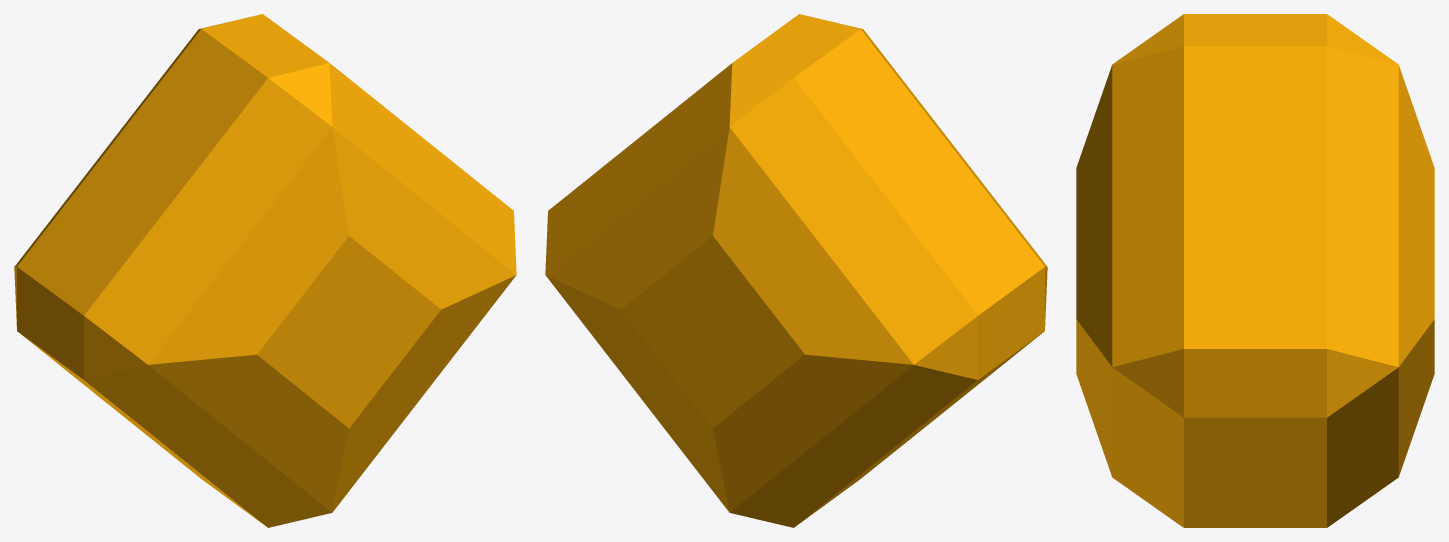
Rendered from 2025-10-04_lens-03.gltf.
3 renders of one model, left to right at view 1: azimuth 30°, elevation 25°; view 2: azimuth 150°, elevation 25°; view 3: azimuth 270°, elevation 25°, orthographic. The views are drawn at different scales.
Visible parts, largest first — view 1: beveled_cuboid; view 2: beveled_cuboid; view 3: beveled_cuboid.
Part boxes in pixels (bbox=[...]): beveled_cuboid: bbox=[14, 14, 516, 527]; beveled_cuboid: bbox=[545, 14, 1047, 527]; beveled_cuboid: bbox=[1076, 14, 1434, 527].
Bounding box in the file's own units: 0.464 × 0.464 × 0.3125.
Materials: 1 (1 with a texture image).
